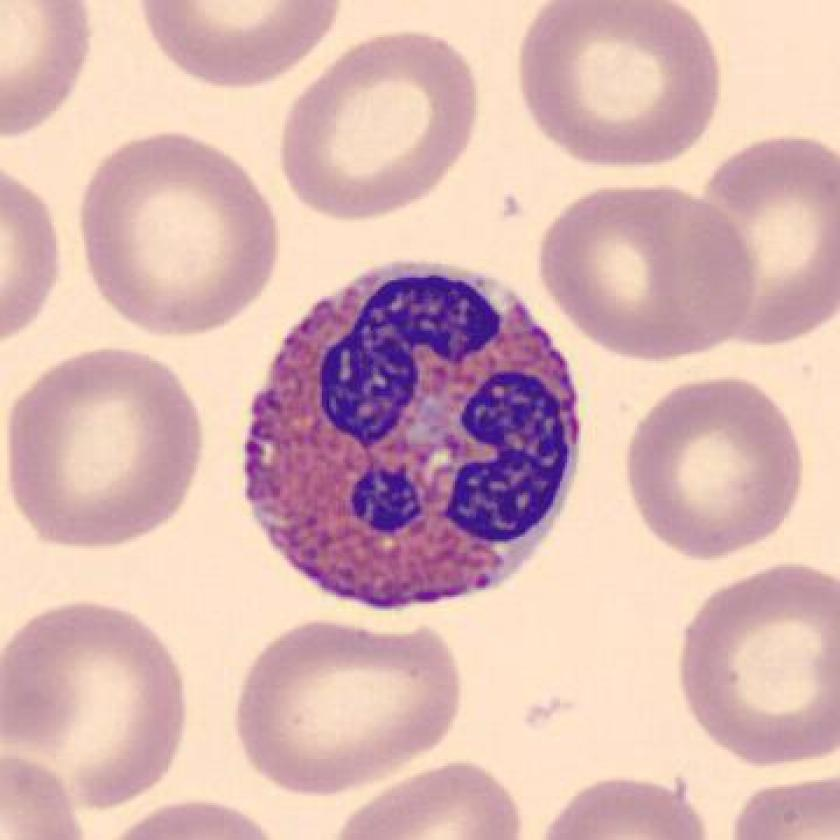eosinophil: (239, 253, 596, 628)
